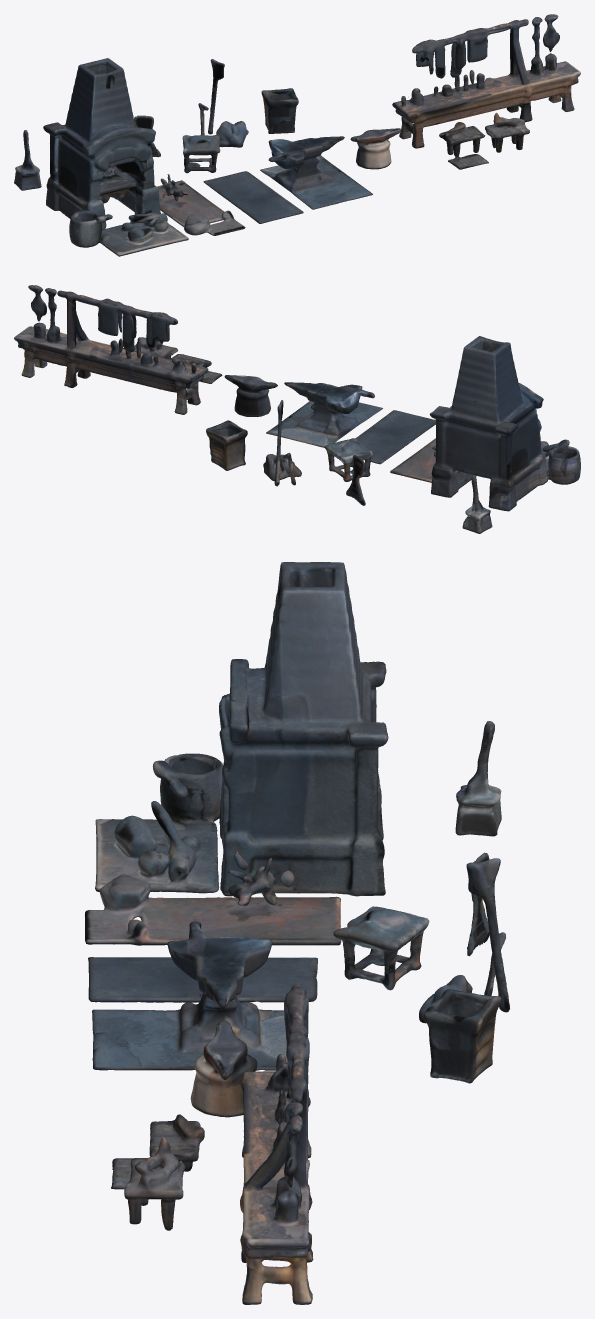
Rendered from a040_kutuk_ustunde_ors.glb.
3 views of the same model, one above another, from view 1: azimuth 30°, elevation 25°; view 2: azimuth 150°, elevation 25°; view 3: azimuth 270°, elevation 25° (orthographic). The views are drawn at different scales.
Bounding box in the file's own units: 2 × 0.5288 × 0.7032.
Materials: 1 (1 with a texture image).
